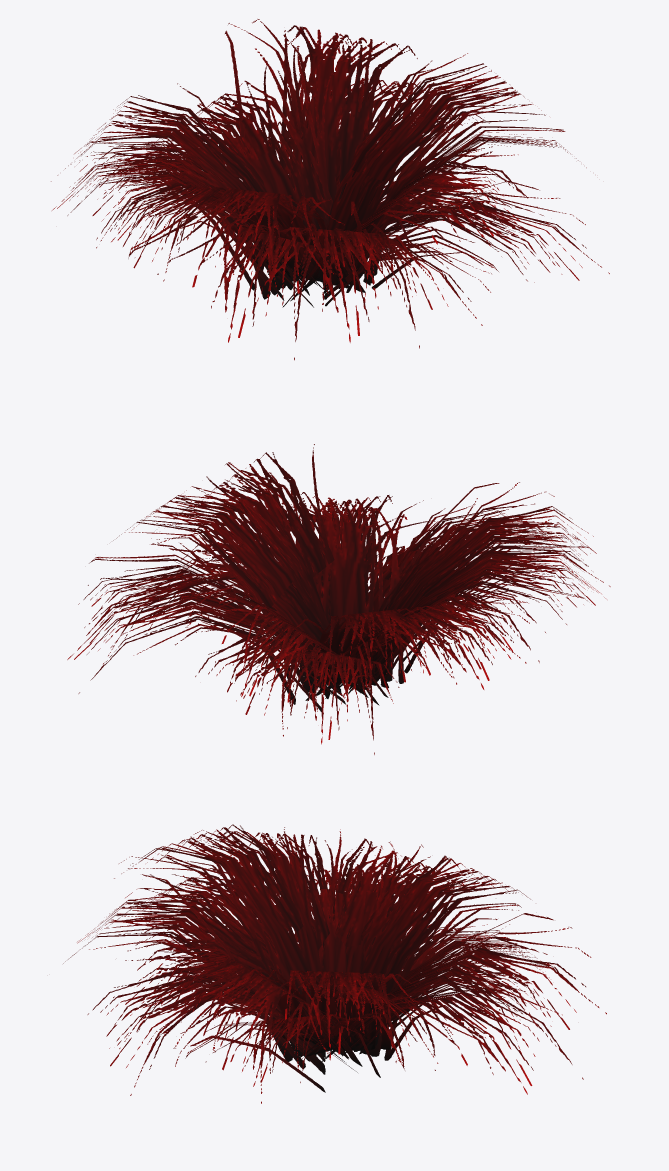
Rendered from bush_taiga_sedge_a.glb.
The picture shows the model from 3 angles, top to bottom: view 1: azimuth 30°, elevation 25°; view 2: azimuth 150°, elevation 25°; view 3: azimuth 270°, elevation 25°; orthographic projection. The views are drawn at different scales.
Parts seen in each view (by area): view 1: bush_taiga_sedge_a; view 2: bush_taiga_sedge_a; view 3: bush_taiga_sedge_a.
Part boxes in pixels (left/top/right/bottom): bush_taiga_sedge_a: left=51, top=19, right=609, bottom=360; bush_taiga_sedge_a: left=67, top=444, right=610, bottom=754; bush_taiga_sedge_a: left=63, top=824, right=606, bottom=1103.
Bounding box in the file's own units: 1.54 × 0.5322 × 1.59.
1 material, 1 textured.
